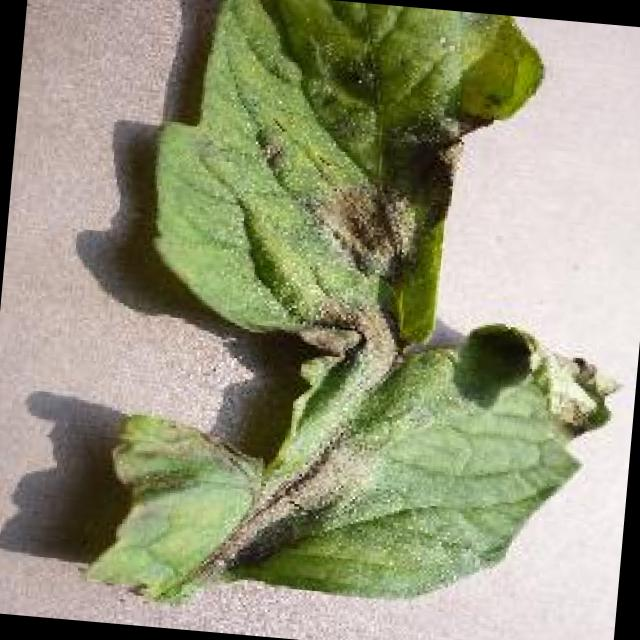Tomato_Late_Blight: (135, 300, 625, 640), (223, 18, 480, 308)
